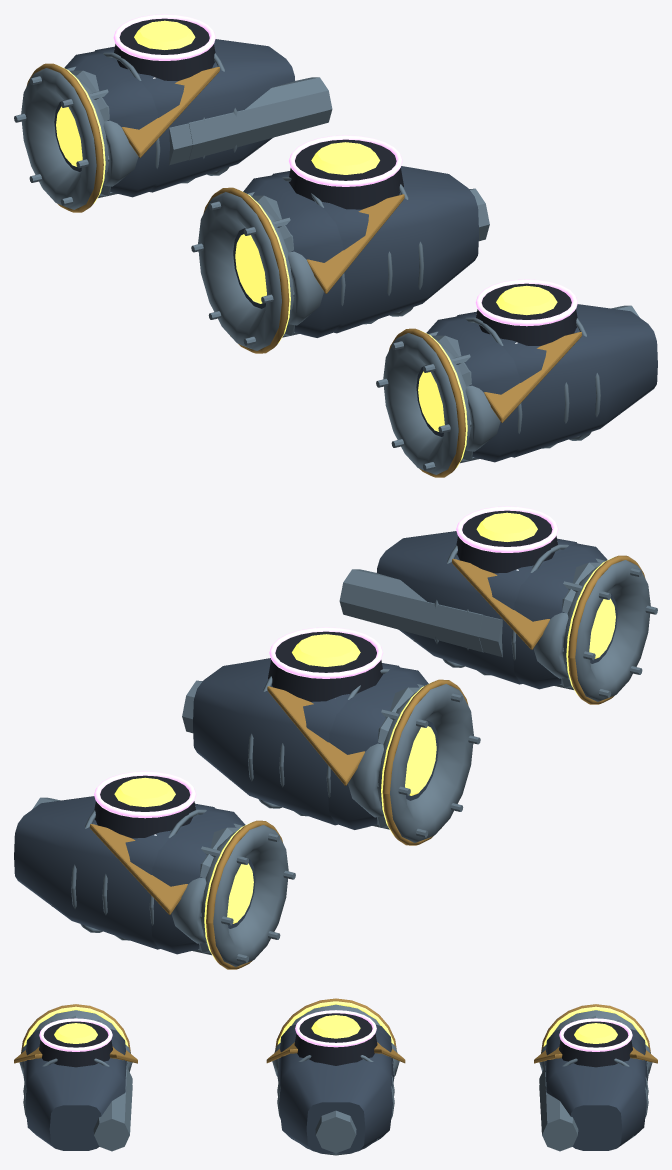
Rendered from engine.glb.
3 renders of one model, top to bottom at view 1: azimuth 30°, elevation 25°; view 2: azimuth 150°, elevation 25°; view 3: azimuth 270°, elevation 25°, orthographic. The views are drawn at different scales.
Parts seen in each view (by area): view 1: e_twin Fitting gunmetal, e_nova Brushed fitting edges, e_nova Fitting gunmetal, e_twin Brushed fitting edges, e_nova Champagne gold edging, e_fusion Machined graphite, e_nova e_nova emitter, e_fusion Fusion amber core, e_fusion e_fusion emitter, e_ion Brushed fitting edges, e_fusion Brushed fitting edges; view 2: e_twin Fitting gunmetal, e_nova Brushed fitting edges, e_nova Fitting gunmetal, e_twin Brushed fitting edges, e_nova Champagne gold edging, e_fusion Machined graphite, e_nova e_nova emitter, e_fusion Fusion amber core, e_fusion e_fusion emitter, e_ion Brushed fitting edges, e_fusion Brushed fitting edges; view 3: e_twin Fitting gunmetal, e_fusion Machined graphite, e_twin Brushed fitting edges, e_nova Champagne gold edging, e_fusion Fusion amber core, e_fusion e_fusion emitter, e_nova e_nova emitter, e_nova Brushed fitting edges, e_ion Brushed fitting edges, e_nova Fitting gunmetal.
Boxes of the visible parts, x1,y1,x2,y2 form: e_twin Fitting gunmetal: (94, 39, 657, 457); e_nova Brushed fitting edges: (14, 66, 479, 474); e_nova Fitting gunmetal: (54, 51, 520, 462); e_twin Brushed fitting edges: (103, 66, 639, 451); e_nova Champagne gold edging: (26, 63, 581, 477); e_fusion Machined graphite: (114, 18, 577, 346); e_nova e_nova emitter: (56, 65, 467, 467); e_fusion Fusion amber core: (134, 20, 557, 315); e_fusion e_fusion emitter: (113, 14, 577, 326); e_ion Brushed fitting edges: (103, 52, 600, 448); e_fusion Brushed fitting edges: (69, 70, 620, 460); e_twin Fitting gunmetal: (14, 531, 577, 949); e_nova Brushed fitting edges: (192, 558, 657, 966); e_nova Fitting gunmetal: (151, 543, 617, 954); e_twin Brushed fitting edges: (32, 558, 568, 943); e_nova Champagne gold edging: (90, 555, 645, 969); e_fusion Machined graphite: (94, 510, 557, 838); e_nova e_nova emitter: (204, 557, 615, 959); e_fusion Fusion amber core: (114, 512, 537, 807); e_fusion e_fusion emitter: (94, 506, 558, 818); e_ion Brushed fitting edges: (71, 544, 568, 940); e_fusion Brushed fitting edges: (51, 562, 602, 952); e_twin Fitting gunmetal: (24, 1031, 647, 1153); e_fusion Machined graphite: (39, 1013, 632, 1067); e_twin Brushed fitting edges: (19, 1043, 652, 1153); e_nova Champagne gold edging: (14, 998, 657, 1063); e_fusion Fusion amber core: (54, 1015, 617, 1043); e_fusion e_fusion emitter: (39, 1010, 632, 1051); e_nova e_nova emitter: (23, 1001, 648, 1046); e_nova Brushed fitting edges: (33, 1004, 638, 1083); e_ion Brushed fitting edges: (23, 1055, 648, 1155); e_nova Fitting gunmetal: (24, 1024, 647, 1065).
Bounding box in the file's own units: 15.81 × 10.33 × 49.54.
